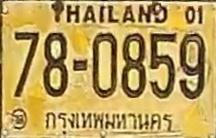0: (92, 32, 117, 98)
5: (149, 32, 176, 99)
7: (14, 31, 39, 97)
8: (120, 32, 146, 98), (43, 32, 68, 96)
9: (179, 32, 205, 99)
BKK: (42, 109, 176, 136)
